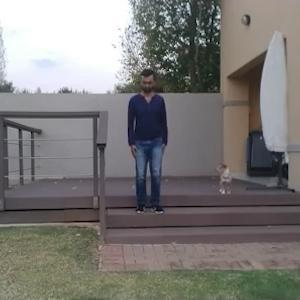follow: (125, 64, 165, 223)
